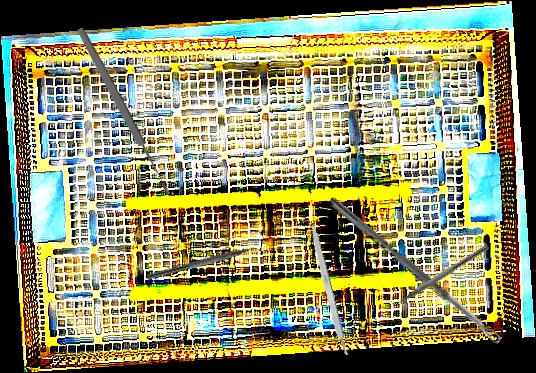Chopper: (385, 237, 490, 312), (146, 241, 266, 289)
Scalpel Handle: (307, 222, 349, 357)
Surgical Spoon: (326, 196, 503, 346), (75, 25, 173, 198)
